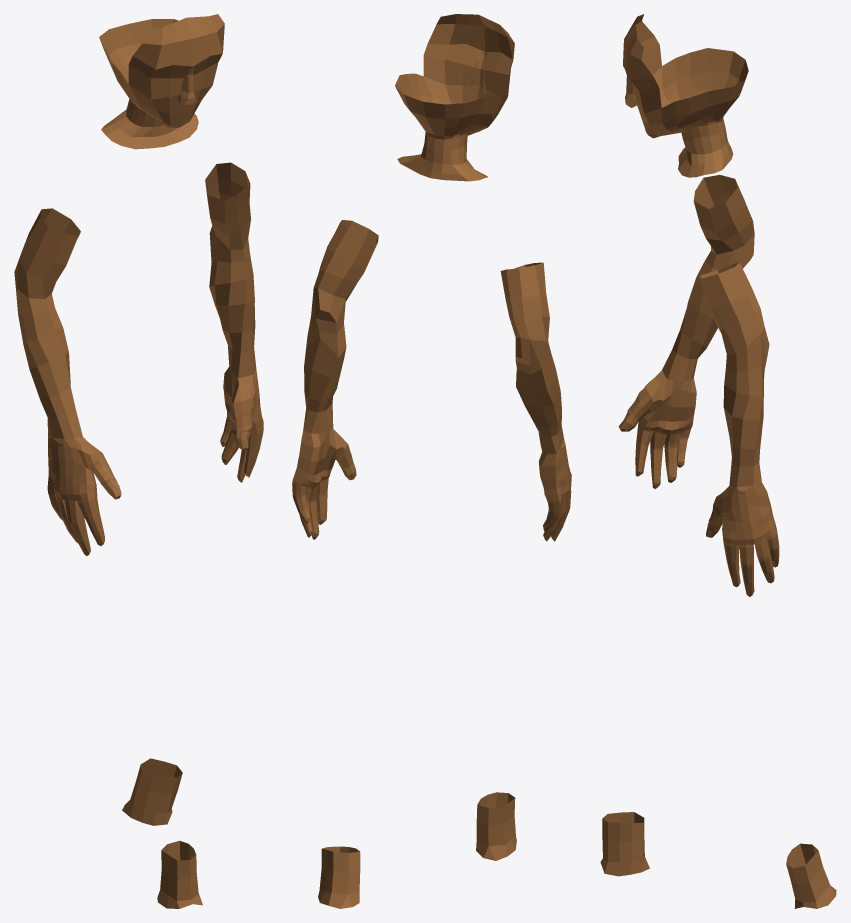
The model's file is Skin_003.obj.
The picture shows the model from 3 angles, left to right: view 1: azimuth 30°, elevation 25°; view 2: azimuth 150°, elevation 25°; view 3: azimuth 270°, elevation 25°; orthographic projection. The views are drawn at different scales.
Size of the model in its own units: 0.4843 by 1.64 by 0.4089.
